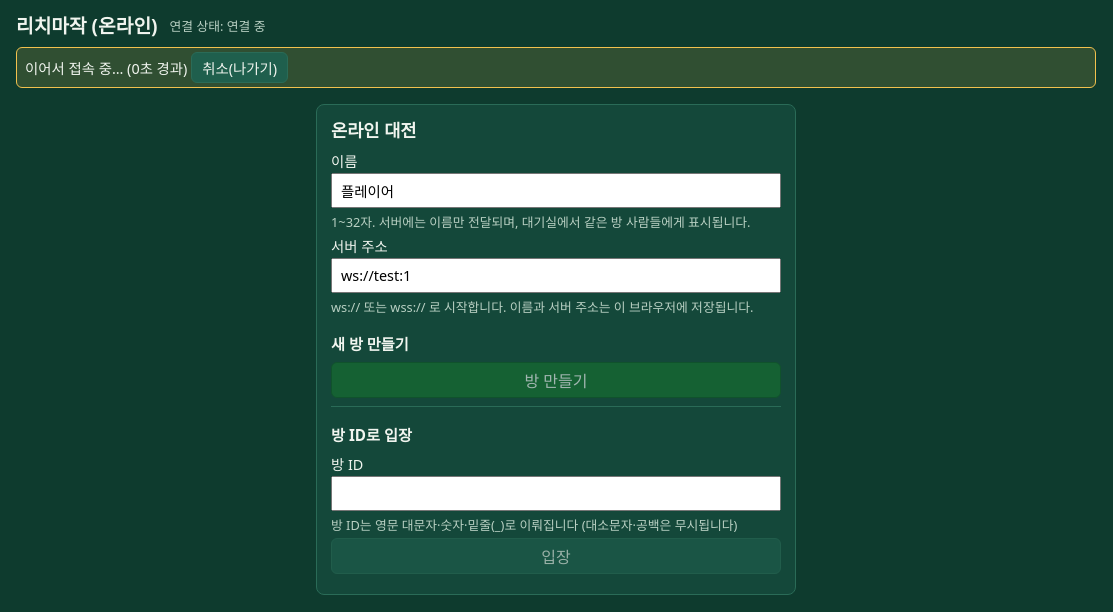
Test case: 연결 중 버튼 비활성 › 저장된 세션 자동 복원 중에는 '이어서 접속 중…'과 취소가 보이고 입장은 비활성이다
expect the text "이어서 접속 중… (0초 경과) 취소(나가기)" is shown: met, box [16,47,1096,88]
Click the button "취소(나가기)".
click(240, 68)  # box [191,52,288,83]
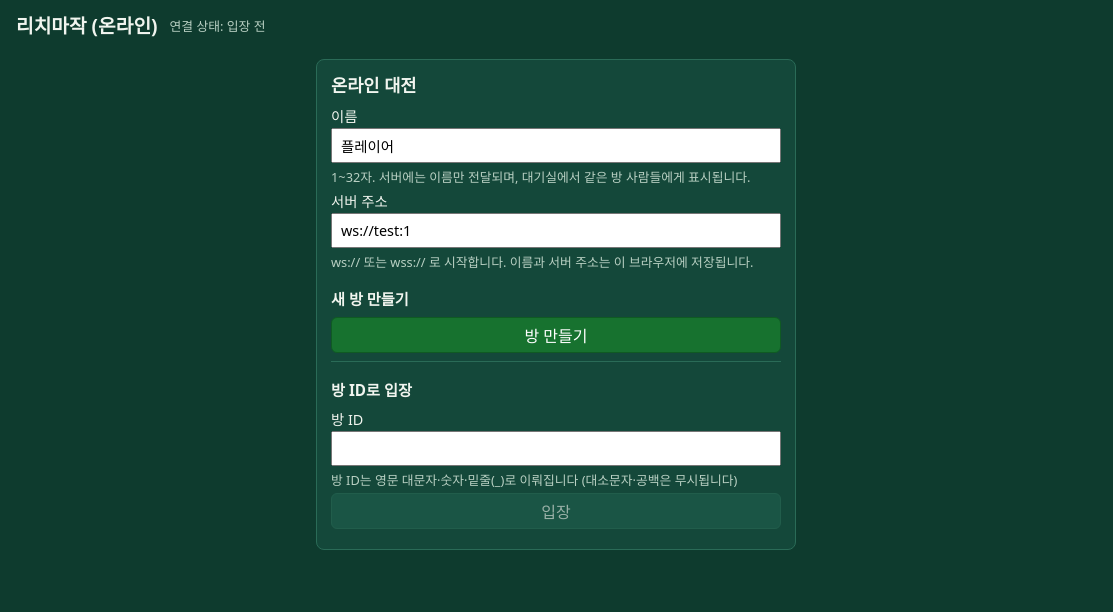
expect the text "이어서 접속 중" is gone: met
